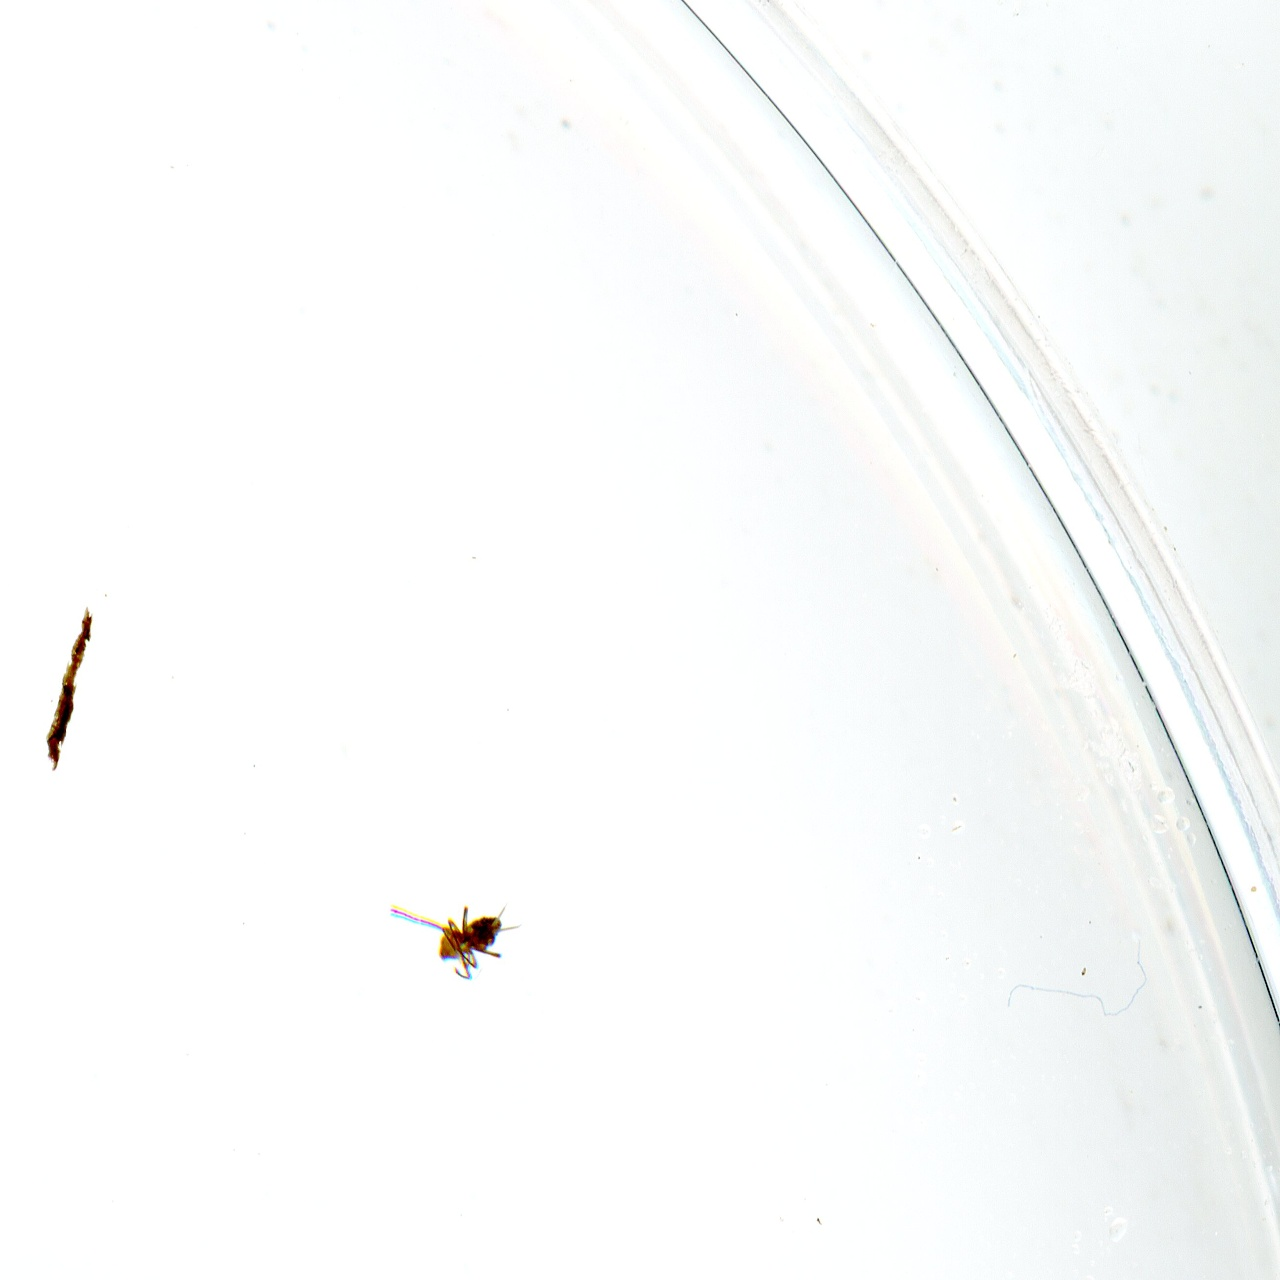arthropod: (383, 886, 523, 990)
